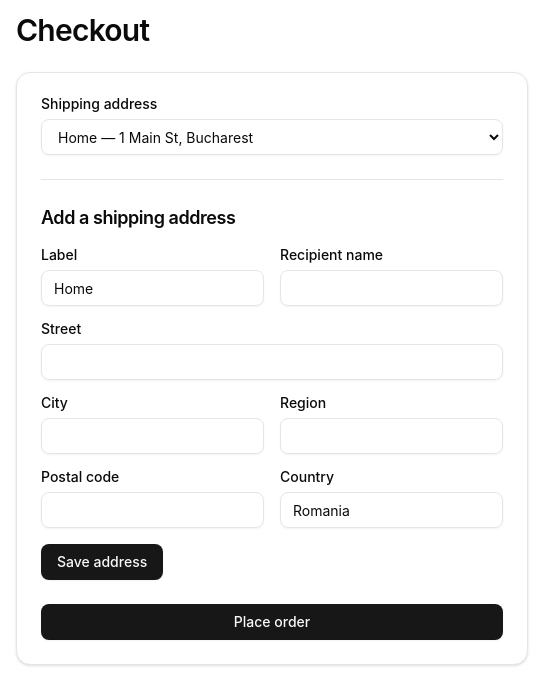
Test: CheckoutPage › shows skipped items when checkout is a partial success
This screenshot has width=545, height=683.
Click the button "Place order" at (272, 622), box [41,604,503,640]
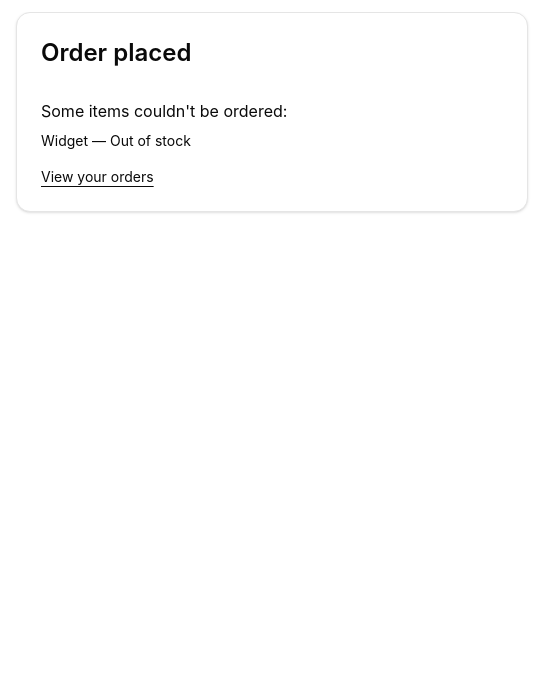
Expected: the list item "Widget — Out of stock" is shown, [41,132,191,149]
